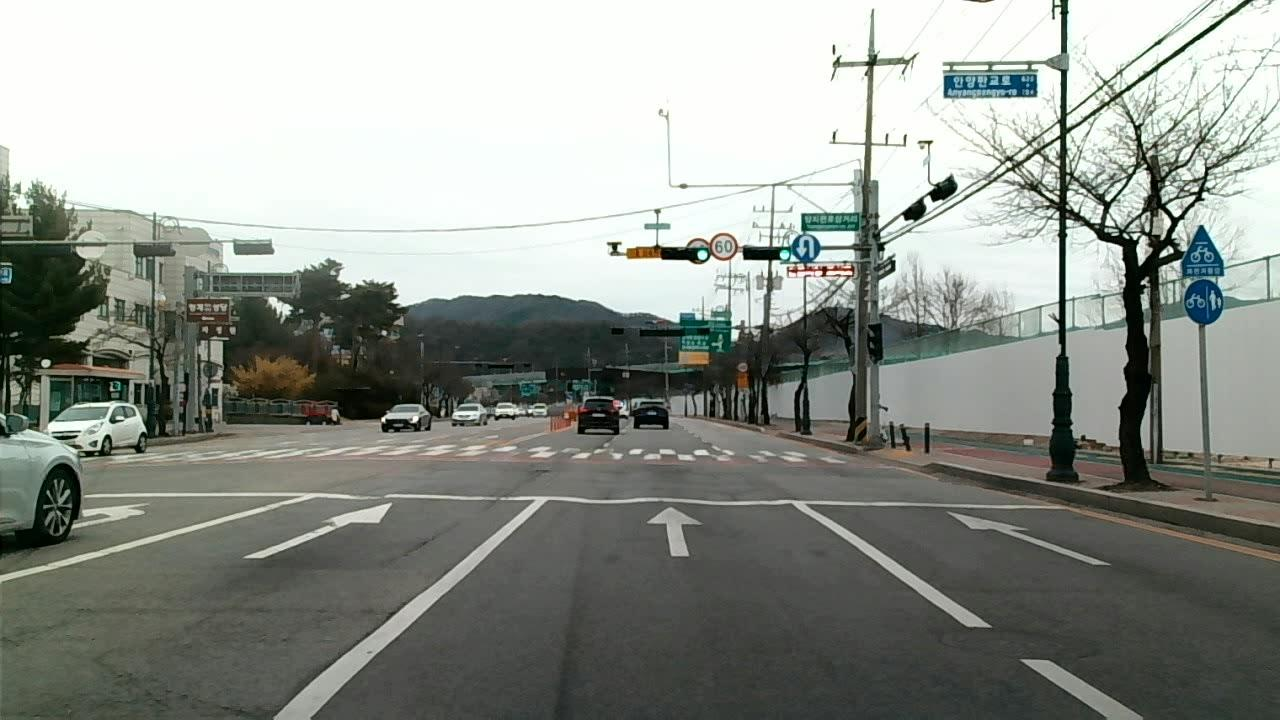vcrack: (98, 661, 262, 718), (388, 525, 445, 567)
